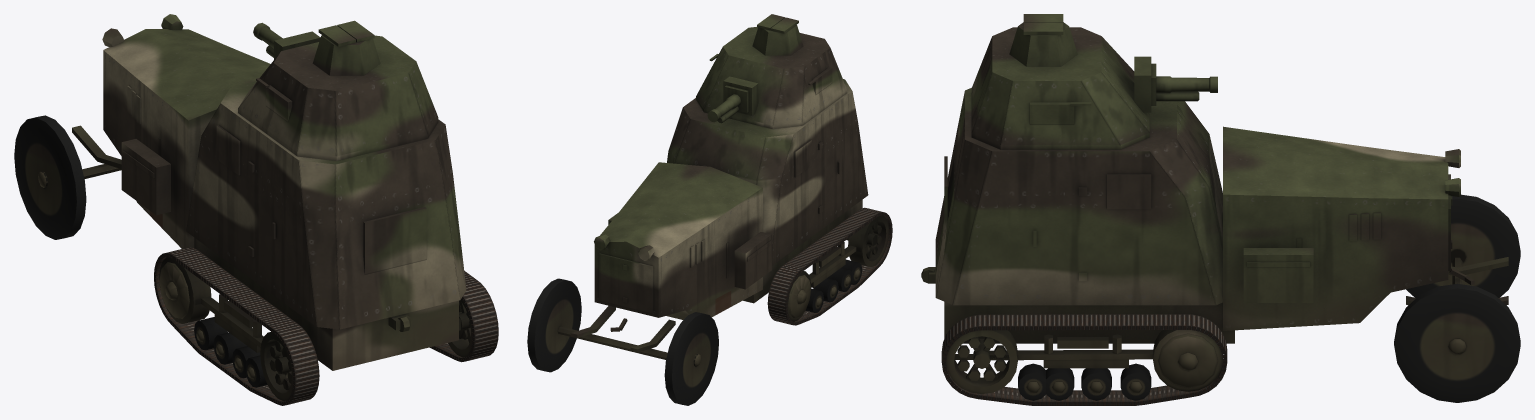
3 views of the same model, side by side, from view 1: azimuth 30°, elevation 25°; view 2: azimuth 150°, elevation 25°; view 3: azimuth 270°, elevation 25° (orthographic). The views are drawn at different scales.
Parts seen in each view (by area): view 1: Chassis, Tourelle_01, Roue_Gauche_01, Chenille_Gauche_01, Chenille_Droite_01, Roue_G1, Roue_G6, Roue_D6, Roue_G2, Axe_Canon_01, Roue_G3, Roue_G5 (+1 smaller); view 2: Chassis, Tourelle_01, Roue_Gauche_01, Chenille_Gauche_01, Roue_Droite_01, Roue_G6, Axe_Canon_01, Roue_G1, Canon_01, Roue_G3, Roue_G4; view 3: Chassis, Tourelle_01, Roue_Droite_01, Chenille_Droite_01, Roue_Gauche_01, Roue_D1, Roue_D6, Axe_Canon_01, Canon_01, Roue_D2, Roue_D5, Roue_D3 (+1 smaller).
Boxes of the visible parts, <box> form: Chassis: <box>72,14,466,370</box>; Tourelle_01: <box>238,20,438,160</box>; Roue_Gauche_01: <box>14,115,86,239</box>; Chenille_Gauche_01: <box>154,247,319,405</box>; Chenille_Droite_01: <box>429,271,498,362</box>; Roue_G1: <box>159,257,211,323</box>; Roue_G6: <box>260,331,293,400</box>; Roue_D6: <box>448,299,472,357</box>; Roue_G2: <box>194,317,227,350</box>; Axe_Canon_01: <box>266,31,320,59</box>; Roue_G3: <box>213,332,246,364</box>; Roue_G5: <box>246,355,267,387</box>; Chassis: <box>557,79,868,359</box>; Tourelle_01: <box>696,14,846,128</box>; Roue_Gauche_01: <box>664,312,718,405</box>; Chenille_Gauche_01: <box>767,207,892,325</box>; Roue_Droite_01: <box>527,278,581,372</box>; Roue_G6: <box>848,214,888,266</box>; Axe_Canon_01: <box>718,76,758,123</box>; Roue_G1: <box>787,271,811,321</box>; Canon_01: <box>707,94,741,122</box>; Roue_G3: <box>813,278,838,302</box>; Roue_G4: <box>827,267,851,291</box>; Chassis: <box>921,88,1508,368</box>; Tourelle_01: <box>971,14,1149,149</box>; Roue_Droite_01: <box>1394,283,1520,402</box>; Chenille_Droite_01: <box>941,314,1227,405</box>; Roue_Gauche_01: <box>1406,194,1520,297</box>; Roue_D1: <box>1153,330,1222,391</box>; Roue_D6: <box>946,327,1017,393</box>; Axe_Canon_01: <box>1134,56,1199,112</box>; Canon_01: <box>1156,76,1217,93</box>; Roue_D2: <box>1120,363,1151,400</box>; Roue_D5: <box>1018,363,1045,400</box>; Roue_D3: <box>1081,368,1111,400</box>.
Bounding box in the file's own units: 145 × 350 × 215.
Materials: 3 (3 with a texture image).
